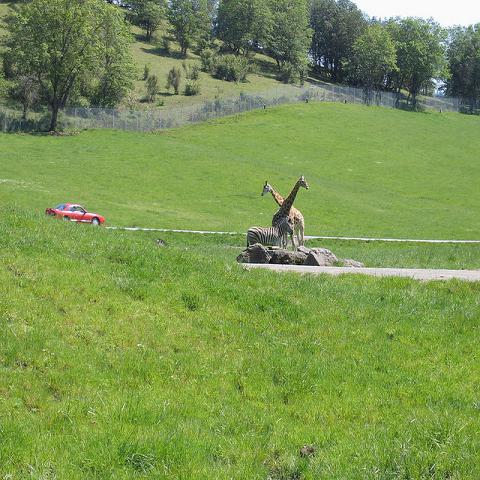car: (45, 204, 105, 226)
